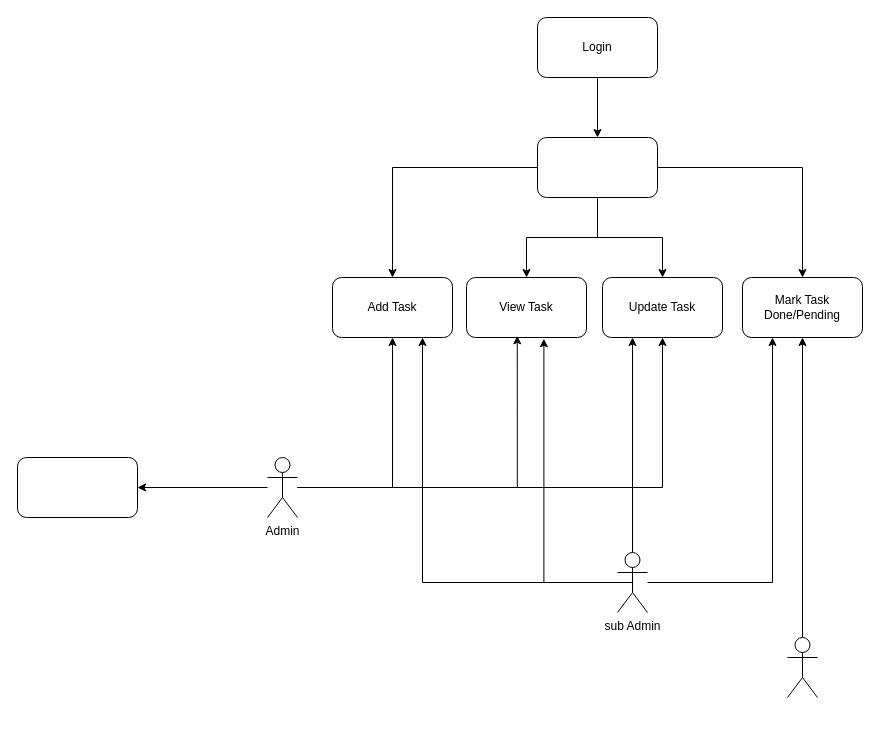
Image size: 880x736. Some labels were removed from this diagram. Each missing label, with the centre of its shape:
"Add Categories and Create Task Templates" goes at (x=77, y=487).
"Dashboard" goes at (x=597, y=167).
"General Employees" goes at (x=802, y=667).
